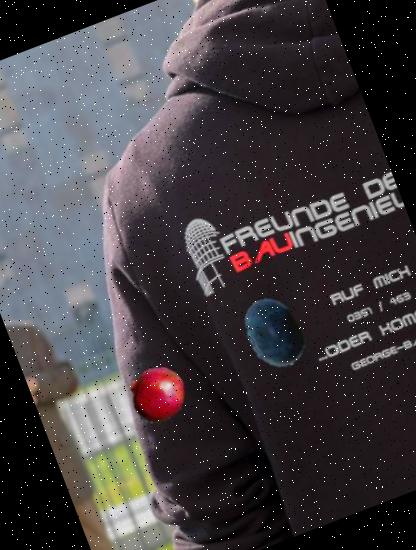Blueberry: (226, 286, 322, 382)
Pomegranate: (120, 358, 194, 432)
